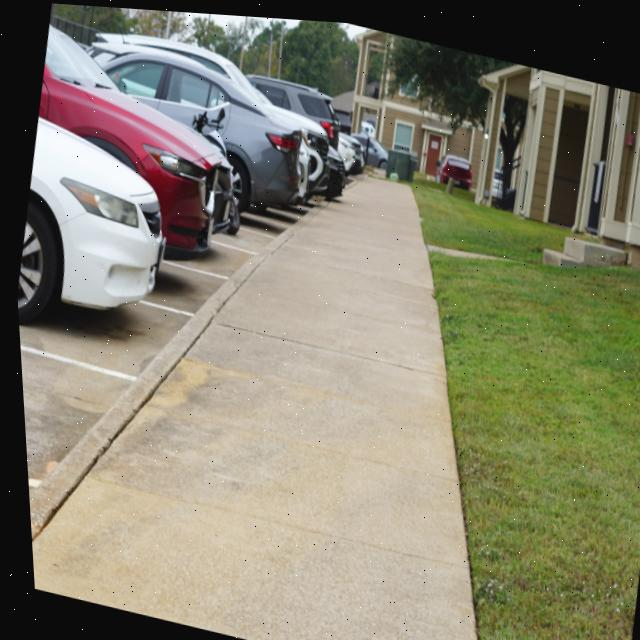Automobile: (37, 24, 229, 250), (92, 33, 300, 208), (14, 117, 161, 311), (246, 71, 337, 143), (299, 138, 326, 196), (433, 147, 470, 186), (322, 152, 343, 195), (363, 131, 386, 164), (335, 133, 354, 168), (351, 128, 365, 143), (306, 128, 318, 138), (320, 131, 325, 144)
Obstacle: (384, 139, 413, 175)
Road: (15, 205, 297, 495)
Sidewalk: (25, 174, 470, 640)
